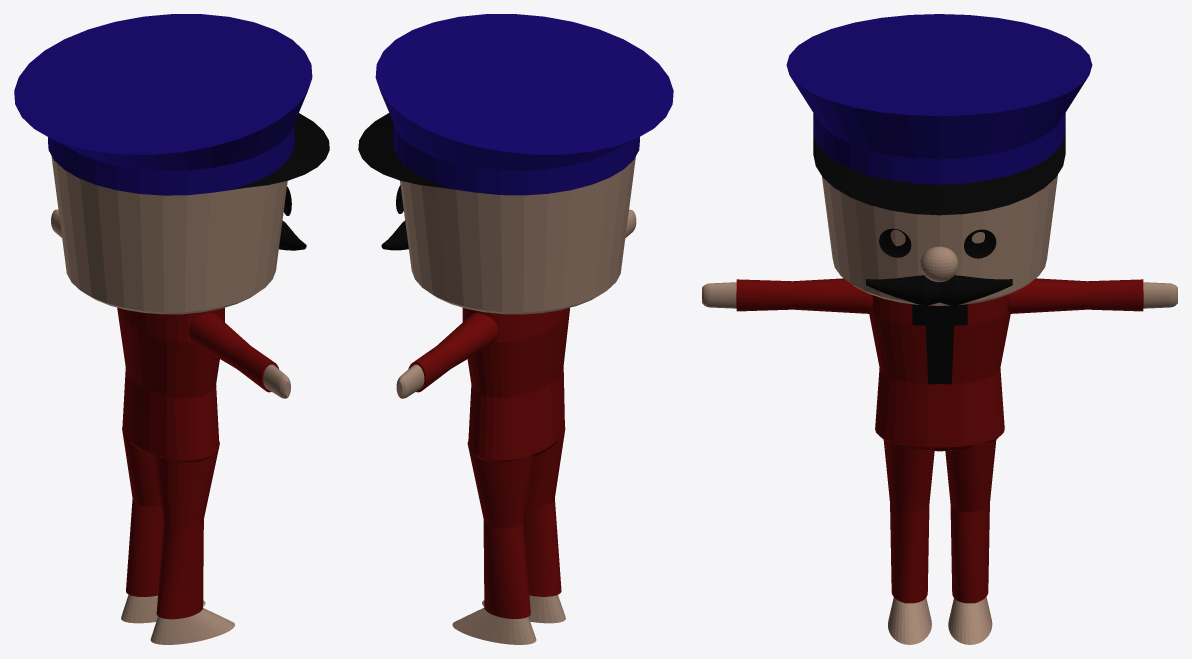
The model's file is red_bigstache_bluehat.fbx.
3 renders of one model, left to right at view 1: azimuth 30°, elevation 25°; view 2: azimuth 150°, elevation 25°; view 3: azimuth 270°, elevation 25°, orthographic. The views are drawn at different scales.
Visible parts, largest first — view 1: Hat.001, Headd.002, Cylinder.049, Cylinder.052, Cylinder.053, Cylinder.050, Cylinder.047, Cylinder.038, Cylinder.055, Cylinder.017; view 2: Hat.001, Headd.002, Cylinder.049, Cylinder.053, Cylinder.052, Cylinder.051, Cylinder.038, Cylinder.047, Cylinder.056, Cylinder.017; view 3: Hat.001, Cylinder.049, Headd.002, Cylinder.053, Cylinder.052, Cylinder.051, Cylinder.050, Cylinder.017, Cylinder.038, Cylinder.047, Eyes.007, Sphere.002 (+2 smaller).
Part boxes in pixels (<box>): Hat.001: <box>14,14,329,195</box>; Headd.002: <box>51,155,287,314</box>; Cylinder.049: <box>117,307,224,462</box>; Cylinder.052: <box>152,442,219,619</box>; Cylinder.053: <box>122,426,163,596</box>; Cylinder.050: <box>188,313,278,392</box>; Cylinder.047: <box>150,608,234,644</box>; Cylinder.038: <box>121,594,205,623</box>; Cylinder.055: <box>263,364,290,398</box>; Cylinder.017: <box>279,221,306,250</box>; Hat.001: <box>358,14,673,195</box>; Headd.002: <box>400,156,635,314</box>; Cylinder.049: <box>462,308,569,462</box>; Cylinder.053: <box>467,441,534,618</box>; Cylinder.052: <box>523,427,565,596</box>; Cylinder.051: <box>408,313,498,392</box>; Cylinder.038: <box>452,608,536,644</box>; Cylinder.047: <box>482,595,565,623</box>; Cylinder.056: <box>396,364,424,398</box>; Cylinder.017: <box>381,221,408,250</box>; Hat.001: <box>786,14,1092,215</box>; Cylinder.049: <box>869,295,1010,451</box>; Headd.002: <box>822,175,1057,305</box>; Cylinder.053: <box>945,440,996,603</box>; Cylinder.052: <box>883,440,934,603</box>; Cylinder.051: <box>1007,278,1143,313</box>; Cylinder.050: <box>736,278,872,313</box>; Cylinder.017: <box>866,275,1012,306</box>; Cylinder.038: <box>948,597,992,644</box>; Cylinder.047: <box>888,597,931,644</box>; Eyes.007: <box>879,228,996,258</box>; Sphere.002: <box>920,246,958,282</box>.
Bounding box in the file's own units: 239 × 453 × 346.
